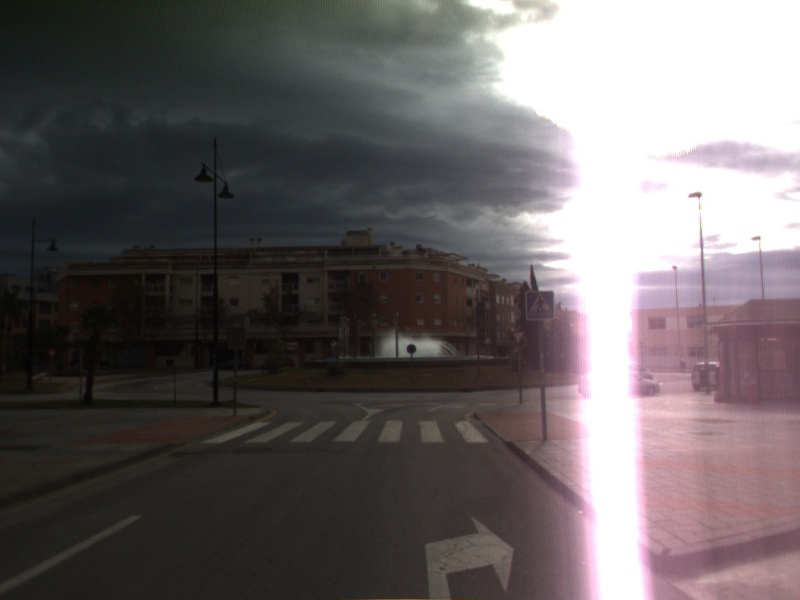RIGHT: (421, 512, 518, 600)
